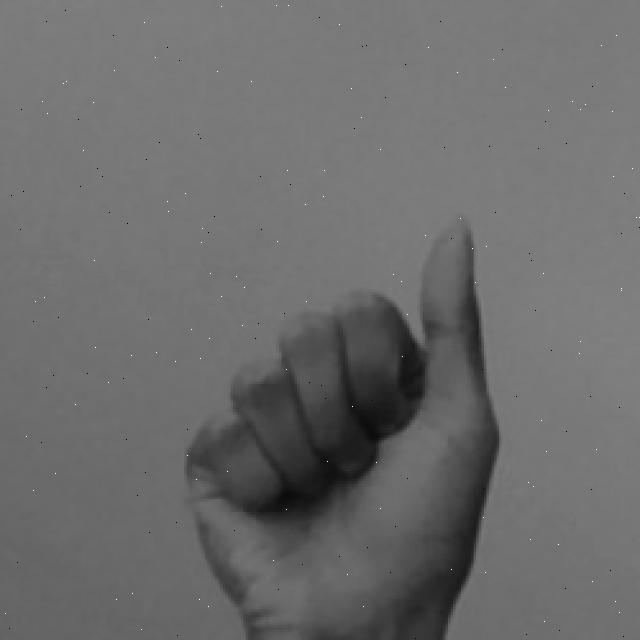A: (175, 209, 514, 640)
